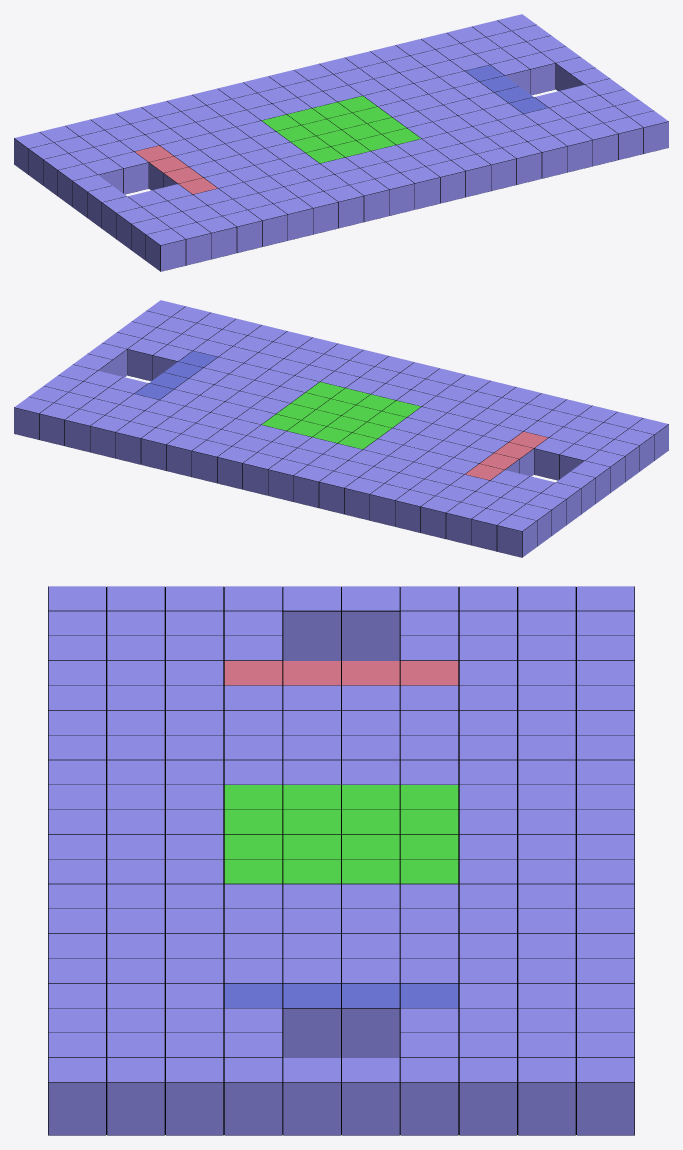
Rendered from Map.fbx.
The picture shows the model from 3 angles, top to bottom: view 1: azimuth 30°, elevation 25°; view 2: azimuth 150°, elevation 25°; view 3: azimuth 270°, elevation 25°; orthographic projection. The views are drawn at different scales.
Parts seen in each view (by area): view 1: Cube.001; view 2: Cube.001; view 3: Cube.001.
Boxes of the visible parts, <box> form: Cube.001: <box>14,14,668,271</box>; Cube.001: <box>14,300,668,557</box>; Cube.001: <box>48,586,634,1135</box>.
Bounding box in the file's own units: 4000 × 200 × 2000.
